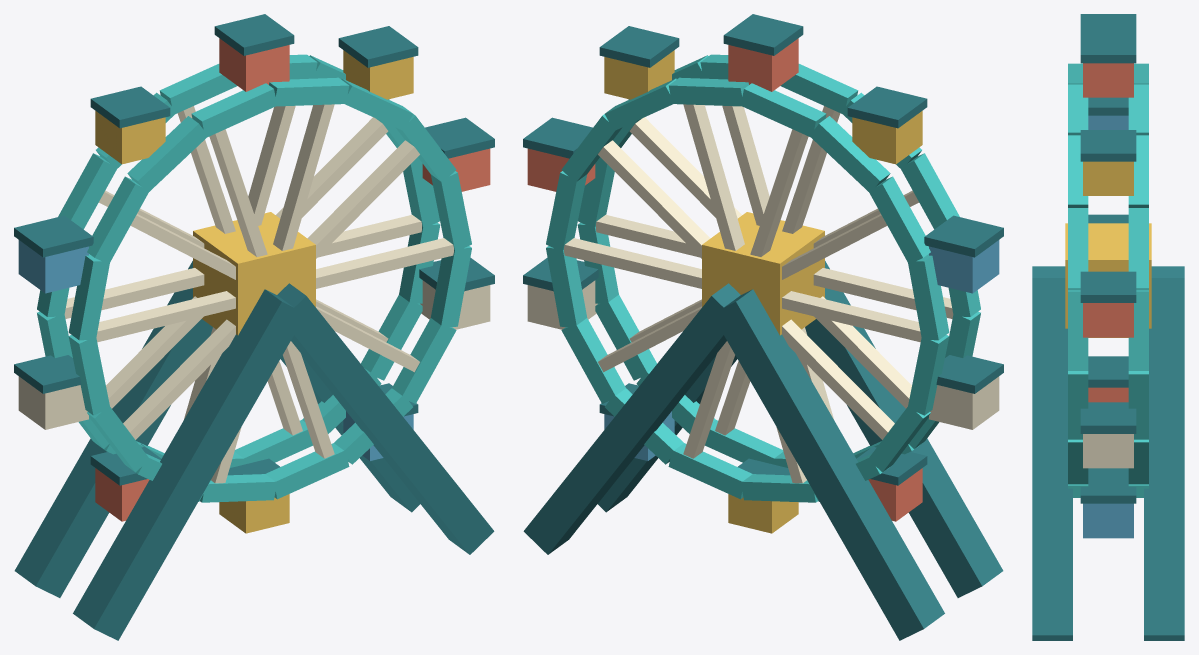
The model's file is ferris-wheel-3x5-8f.glb.
3 renders of one model, left to right at view 1: azimuth 30°, elevation 25°; view 2: azimuth 150°, elevation 25°; view 3: azimuth 270°, elevation 25°, orthographic. The views are drawn at different scales.
Parts seen in each view (by area): view 1: ferris-wheel-3x5-8f; view 2: ferris-wheel-3x5-8f; view 3: ferris-wheel-3x5-8f.
Part boxes in pixels (box(x1,y1,x2,y2)): ferris-wheel-3x5-8f: box(14, 14, 494, 640); ferris-wheel-3x5-8f: box(523, 14, 1003, 640); ferris-wheel-3x5-8f: box(1032, 14, 1184, 640).
Size of the model in its own units: 1.97 by 2.24 by 0.6.
